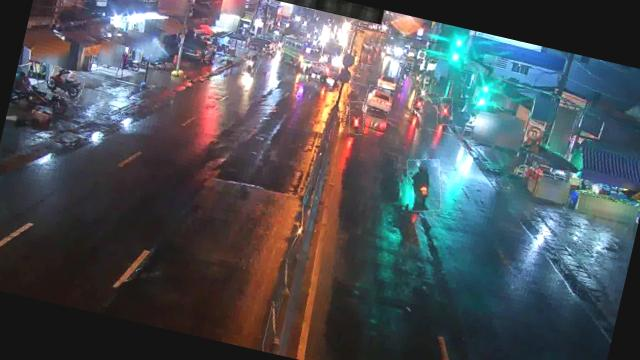Bike: (399, 155, 448, 216), (46, 67, 86, 102), (345, 100, 369, 136), (433, 96, 456, 127), (242, 50, 262, 78), (411, 92, 425, 114)
Car: (363, 86, 394, 114)
